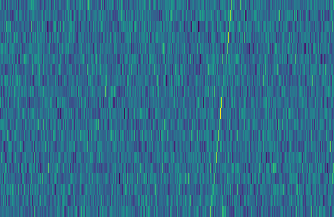signal: (206, 0, 238, 217)
